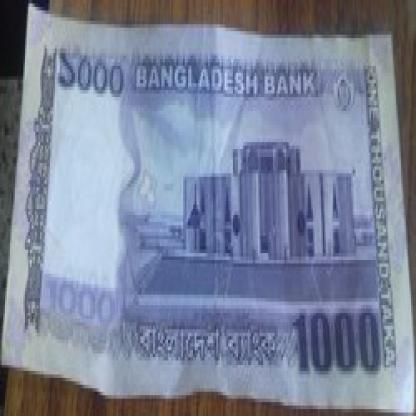One Thousand taka: (288, 301, 384, 378), (42, 274, 116, 333), (57, 45, 124, 101)
